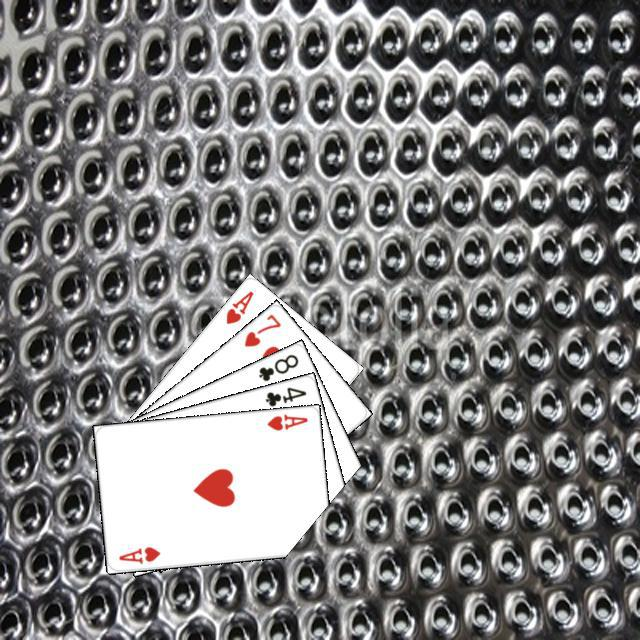4c: (260, 382, 308, 408)
7h: (239, 309, 283, 349)
8c: (254, 349, 300, 383)
Ah: (221, 286, 255, 326), (114, 542, 162, 566), (262, 409, 309, 432)
